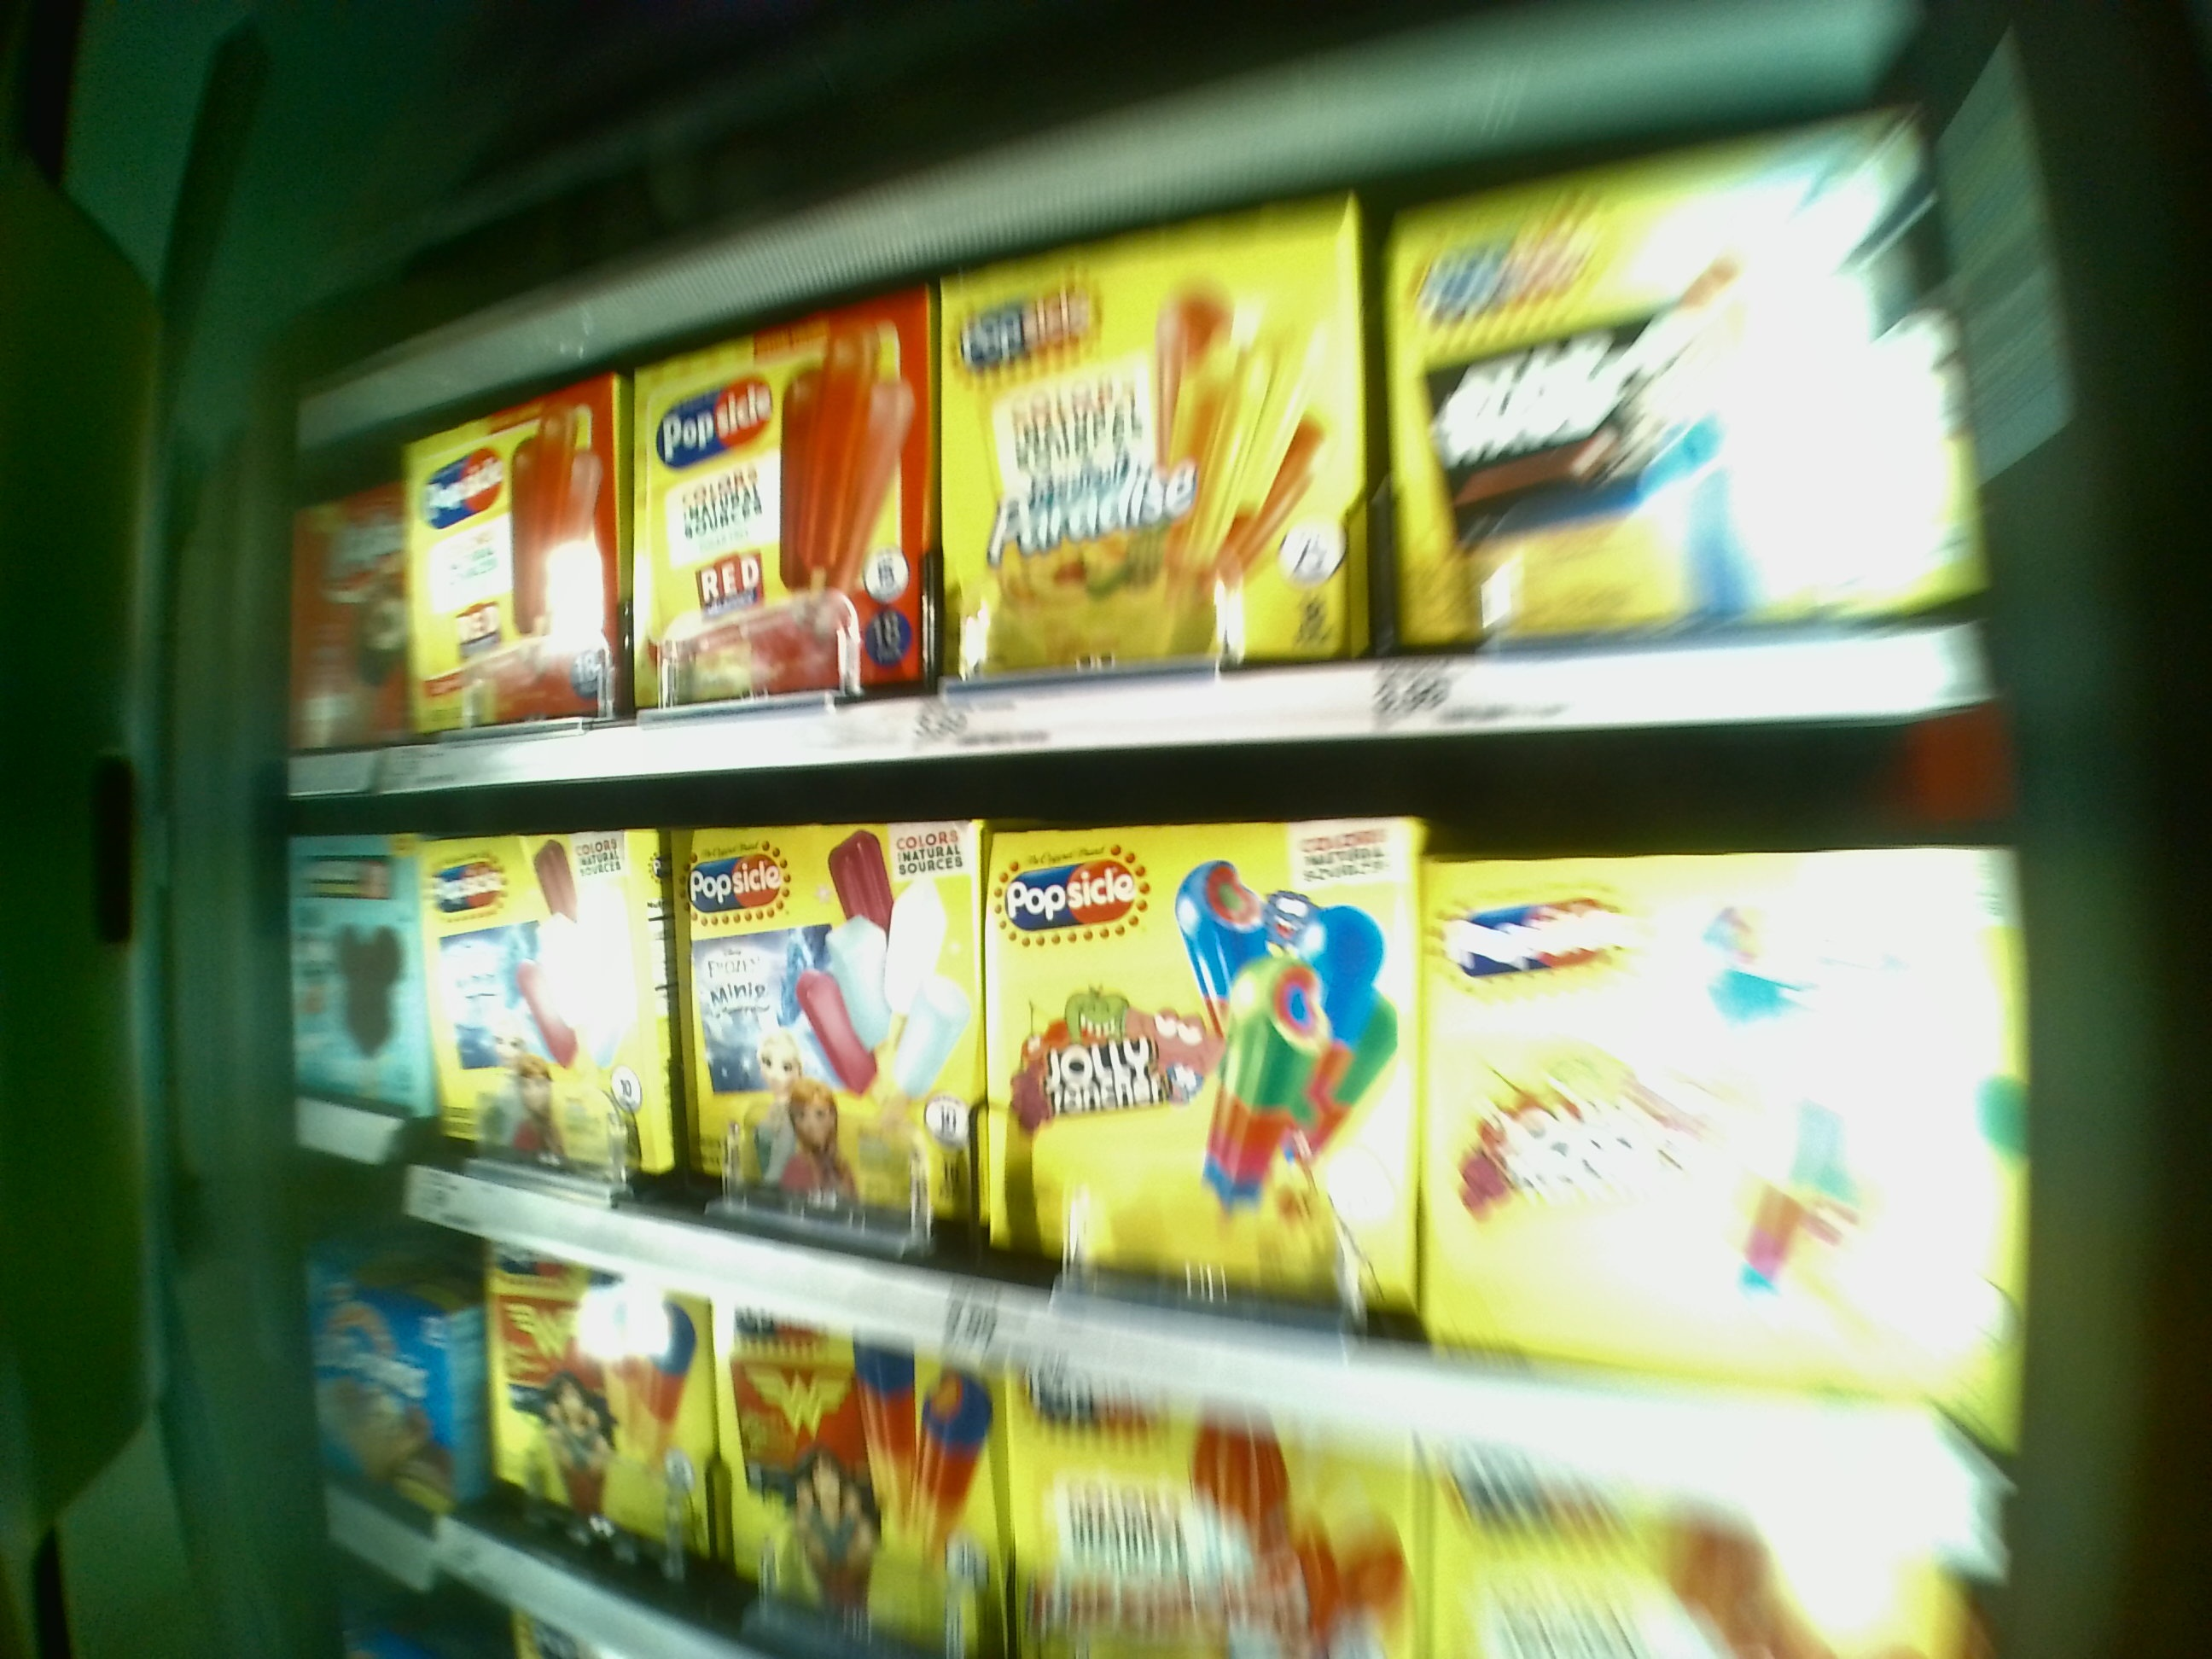shelf: (289, 188, 1977, 746), (326, 767, 2033, 1291)
